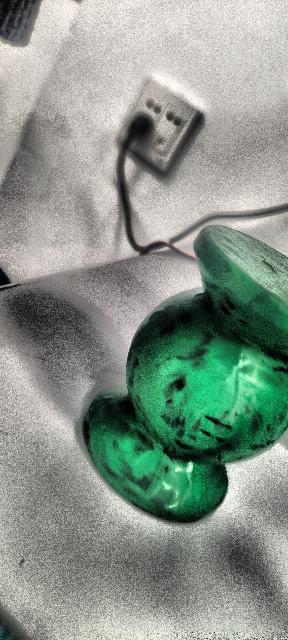green: (80, 219, 288, 526)
